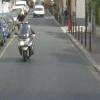Motorcycle: (11, 18, 48, 65)
